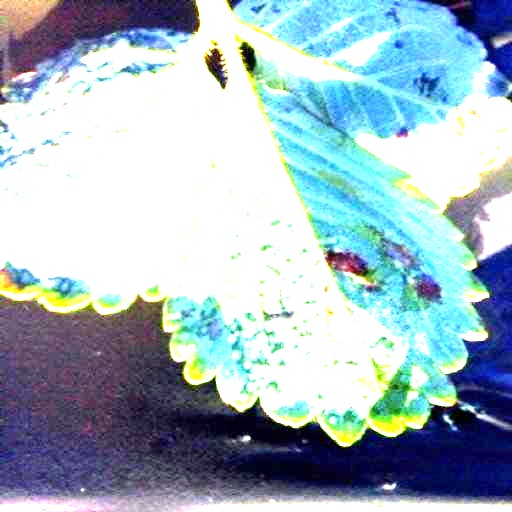Angular Leafspot: (159, 65, 491, 446), (0, 29, 223, 313), (232, 0, 511, 206)
